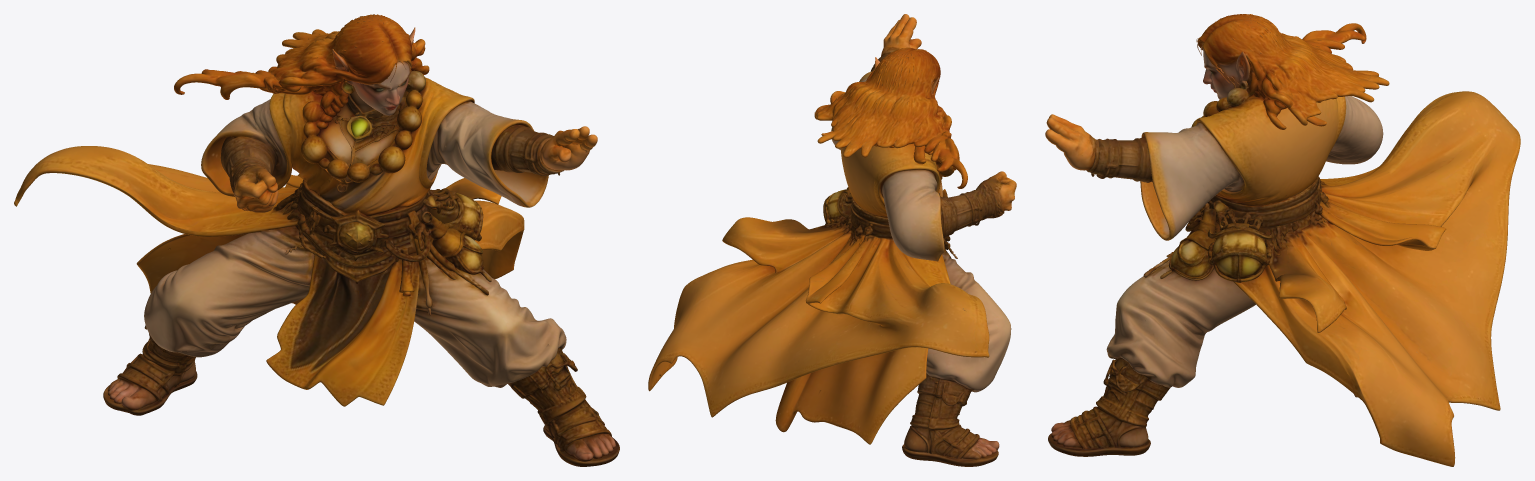
The model's file is dwarf_monk_full_female_01.glb.
The picture shows the model from 3 angles, left to right: view 1: azimuth 30°, elevation 25°; view 2: azimuth 150°, elevation 25°; view 3: azimuth 270°, elevation 25°; orthographic projection. The views are drawn at different scales.
Visible parts, largest first — view 1: material; view 2: material; view 3: material.
Part boxes in pixels (x1=…): material: x1=14, y1=14, x2=619, y2=466; material: x1=648, y1=14, x2=1016, y2=466; material: x1=1045, y1=14, x2=1520, y2=466.
Size of the model in its own units: 0.8386 by 0.7287 by 0.8359.
1 material, 1 textured.
